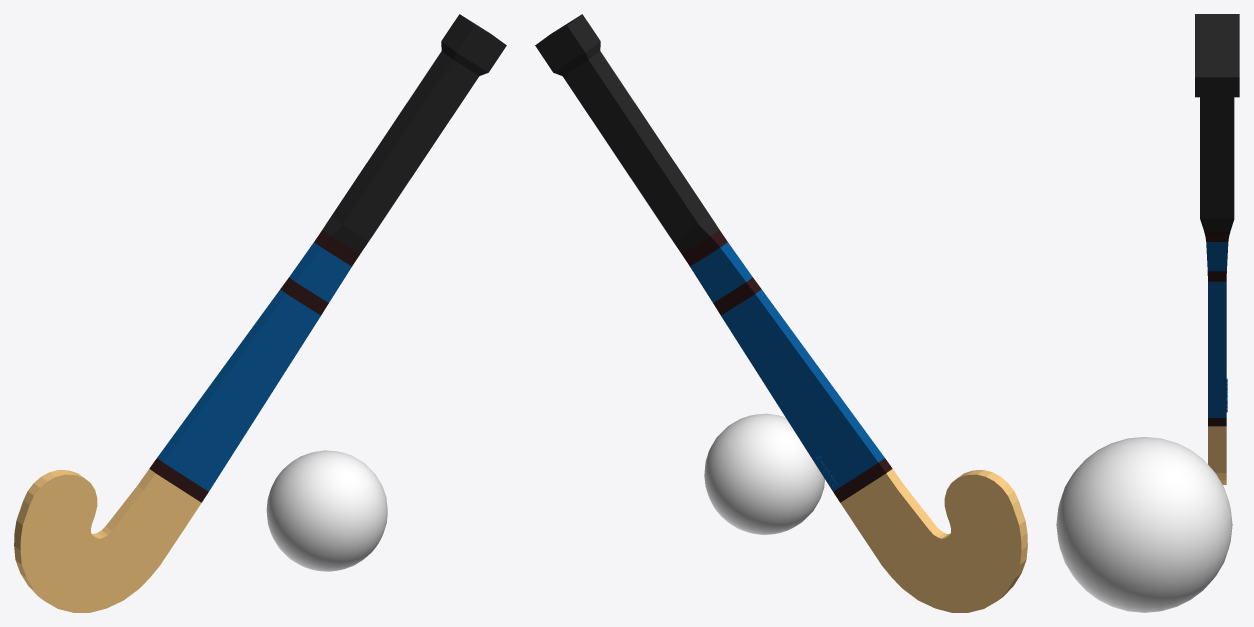
The model's file is field_hockey.gltf.
The picture shows the model from 3 angles, left to right: view 1: azimuth 30°, elevation 25°; view 2: azimuth 150°, elevation 25°; view 3: azimuth 270°, elevation 25°; orthographic projection. The views are drawn at different scales.
Parts seen in each view (by area): view 1: Plane.305; view 2: Plane.305; view 3: Plane.305.
Boxes of the visible parts, bbox=[...] form: Plane.305: bbox=[14, 14, 506, 612]; Plane.305: bbox=[535, 14, 1027, 612]; Plane.305: bbox=[1056, 14, 1239, 612].
Size of the model in its own units: 2.28 by 2.25 by 0.5177.
Materials: 1 (1 with a texture image).
